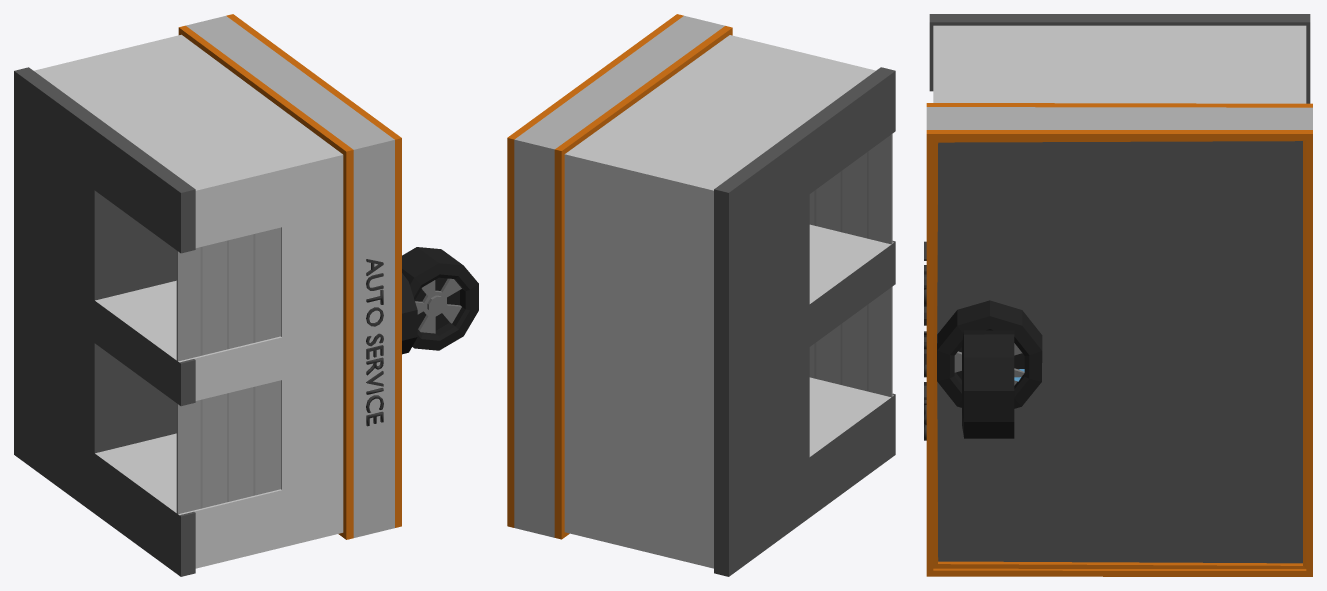
The model's file is AutoServiceBroken.fbx.
The picture shows the model from 3 angles, left to right: view 1: azimuth 30°, elevation 25°; view 2: azimuth 150°, elevation 25°; view 3: azimuth 270°, elevation 25°; orthographic projection. The views are drawn at different scales.
Parts seen in each view (by area): view 1: AutoService_fracturepart114, AutoService_fracturepart115, AutoService_fracturepart1, AutoService_fracturepart38, AutoService_fracturepart27, AutoService_fracturepart45, AutoService_fracturepart19, AutoService_fracturepart57, AutoService_fracturepart139, AutoService_fracturepart113, AutoService_fracturepart108, AutoService_fracturepart86 (+57 smaller); view 2: AutoService_fracturepart100, AutoService_fracturepart126, AutoService_fracturepart64, AutoService_fracturepart36, AutoService_fracturepart98, AutoService_fracturepart44, AutoService_fracturepart104, AutoService_fracturepart75, AutoService_fracturepart139, AutoService_fracturepart73, AutoService_fracturepart45, AutoService_fracturepart33 (+46 smaller); view 3: AutoService_fracturepart89, AutoService_fracturepart138, AutoService_fracturepart68, AutoService_fracturepart59, AutoService_fracturepart93, AutoService_fracturepart129, AutoService_fracturepart99, AutoService_fracturepart12, AutoService_fracturepart97, AutoService_fracturepart132, AutoService_fracturepart121, AutoService_fracturepart147 (+48 smaller).
Part boxes in pixels (bbox=[...]): AutoService_fracturepart114: bbox=[148, 151, 268, 253]; AutoService_fracturepart115: bbox=[59, 208, 154, 342]; AutoService_fracturepart1: bbox=[129, 325, 242, 406]; AutoService_fracturepart38: bbox=[283, 262, 392, 346]; AutoService_fracturepart27: bbox=[76, 320, 153, 429]; AutoService_fracturepart45: bbox=[102, 129, 193, 228]; AutoService_fracturepart19: bbox=[298, 438, 401, 528]; AutoService_fracturepart57: bbox=[310, 376, 401, 440]; AutoService_fracturepart139: bbox=[114, 464, 176, 568]; AutoService_fracturepart113: bbox=[20, 378, 83, 495]; AutoService_fracturepart108: bbox=[169, 494, 260, 576]; AutoService_fracturepart86: bbox=[70, 423, 130, 537]; AutoService_fracturepart100: bbox=[672, 243, 776, 375]; AutoService_fracturepart126: bbox=[550, 436, 649, 539]; AutoService_fracturepart64: bbox=[507, 168, 603, 272]; AutoService_fracturepart36: bbox=[507, 247, 606, 338]; AutoService_fracturepart98: bbox=[656, 160, 749, 264]; AutoService_fracturepart44: bbox=[507, 321, 582, 423]; AutoService_fracturepart104: bbox=[578, 276, 672, 382]; AutoService_fracturepart75: bbox=[610, 213, 708, 298]; AutoService_fracturepart139: bbox=[809, 398, 890, 492]; AutoService_fracturepart73: bbox=[535, 138, 638, 215]; AutoService_fracturepart45: bbox=[777, 88, 869, 183]; AutoService_fracturepart33: bbox=[573, 347, 640, 447]; AutoService_fracturepart89: bbox=[1160, 103, 1312, 215]; AutoService_fracturepart138: bbox=[1034, 103, 1170, 202]; AutoService_fracturepart68: bbox=[1096, 503, 1273, 576]; AutoService_fracturepart59: bbox=[1136, 441, 1287, 518]; AutoService_fracturepart93: bbox=[1035, 408, 1141, 540]; AutoService_fracturepart129: bbox=[1095, 363, 1202, 466]; AutoService_fracturepart99: bbox=[1096, 170, 1205, 267]; AutoService_fracturepart12: bbox=[1037, 318, 1127, 408]; AutoService_fracturepart97: bbox=[926, 117, 1017, 218]; AutoService_fracturepart132: bbox=[1106, 232, 1198, 337]; AutoService_fracturepart121: bbox=[974, 424, 1074, 522]; AutoService_fracturepart147: bbox=[926, 504, 1034, 576].
Size of the model in its own units: 942 by 1116 by 888.
1 material, 1 textured.
